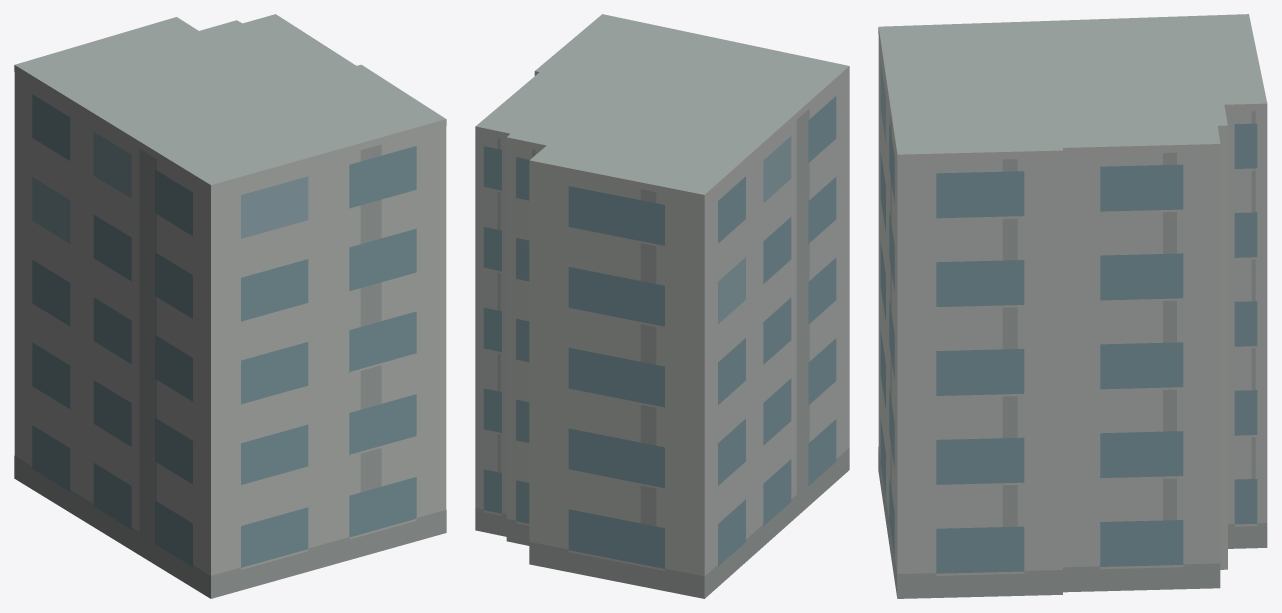
Rendered from survey-upis-32914776.glb.
The picture shows the model from 3 angles, left to right: view 1: azimuth 30°, elevation 25°; view 2: azimuth 150°, elevation 25°; view 3: azimuth 270°, elevation 25°; orthographic projection. The views are drawn at different scales.
Parts seen in each view (by area): view 1: survey-upis-32914776.tmp; view 2: survey-upis-32914776.tmp; view 3: survey-upis-32914776.tmp.
Part boxes in pixels (<box>): survey-upis-32914776.tmp: <box>14,14,446,598</box>; survey-upis-32914776.tmp: <box>475,14,849,598</box>; survey-upis-32914776.tmp: <box>878,14,1267,598</box>.
Bounding box in the file's own units: 9.78 × 14.4 × 11.43.
